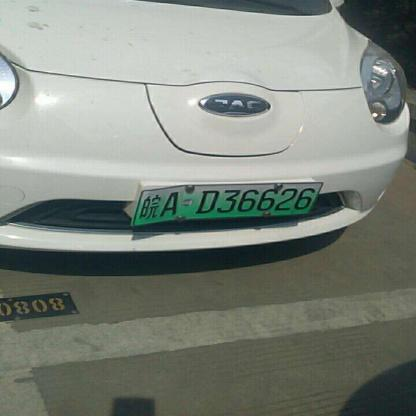lp: (134, 180, 324, 226)
